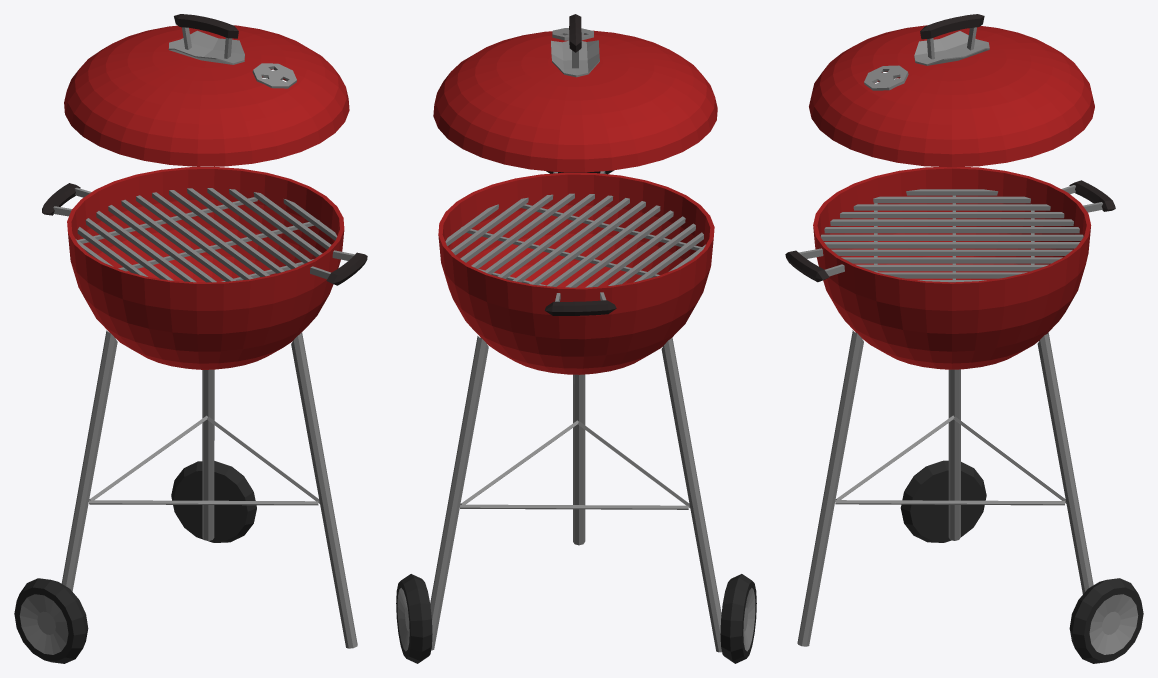
Rendered from barbecue_5.glb.
3 views of the same model, side by side, from view 1: azimuth 30°, elevation 25°; view 2: azimuth 150°, elevation 25°; view 3: azimuth 270°, elevation 25° (orthographic).
Visible parts, largest first — view 1: Object_4, Object_5, Object_2, Object_3, Object_6; view 2: Object_4, Object_5, Object_2, Object_6, Object_3; view 3: Object_4, Object_5, Object_2, Object_3, Object_6.
Boxes of the visible parts, box(x1,y1,x2,y2) form: Object_4: box(64, 25, 349, 369); Object_5: box(53, 27, 357, 648); Object_2: box(14, 461, 256, 663); Object_3: box(19, 594, 68, 654); Object_6: box(42, 14, 367, 285); Object_4: box(433, 30, 717, 374); Object_5: box(430, 28, 721, 652); Object_2: box(396, 574, 756, 663); Object_6: box(544, 14, 616, 315); Object_3: box(397, 588, 755, 651); Object_4: box(809, 25, 1094, 369); Object_5: box(797, 27, 1102, 646); Object_2: box(900, 460, 1143, 663); Object_3: box(1089, 594, 1138, 654); Object_6: box(785, 14, 1115, 282).
Bounding box in the file's own units: 2.52 × 4.78 × 2.58.
